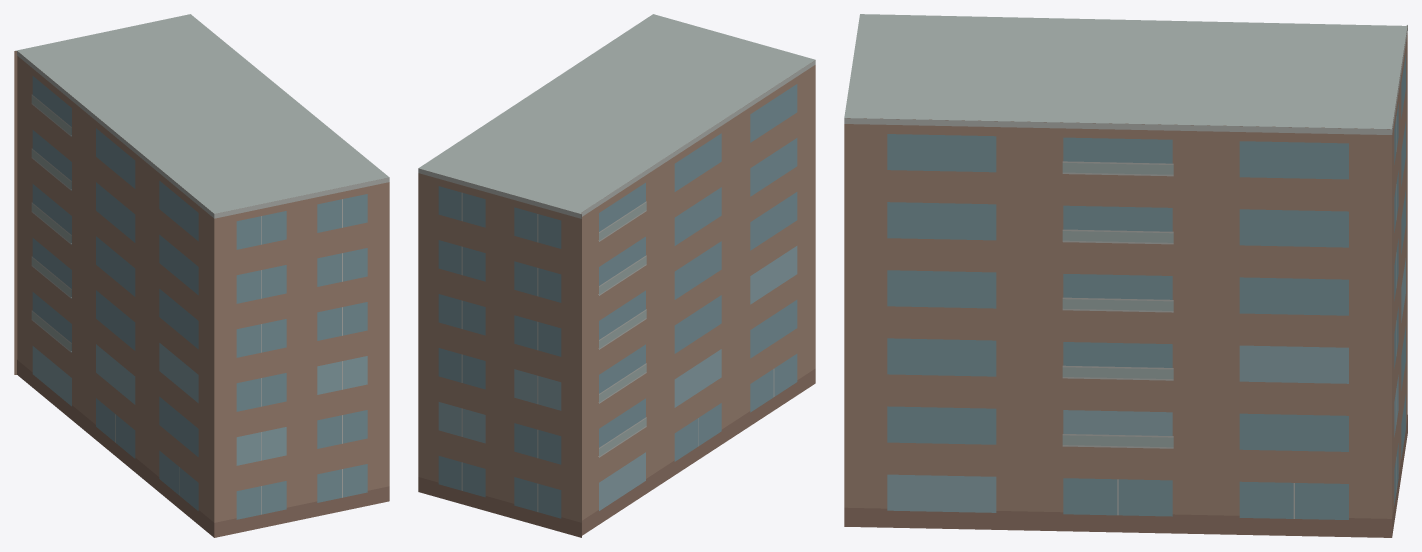
File: survey-upis-32726728.glb
3 views of the same model, side by side, from view 1: azimuth 30°, elevation 25°; view 2: azimuth 150°, elevation 25°; view 3: azimuth 270°, elevation 25° (orthographic). The views are drawn at different scales.
Parts seen in each view (by area): view 1: survey-upis-32726728.tmp; view 2: survey-upis-32726728.tmp; view 3: survey-upis-32726728.tmp.
Part boxes in pixels (box(x1,y1,x2,y2)): survey-upis-32726728.tmp: box(14, 14, 389, 537); survey-upis-32726728.tmp: box(418, 14, 815, 537); survey-upis-32726728.tmp: box(844, 14, 1407, 537).
Bounding box in the file's own units: 10.1 × 16.7 × 20.88.
